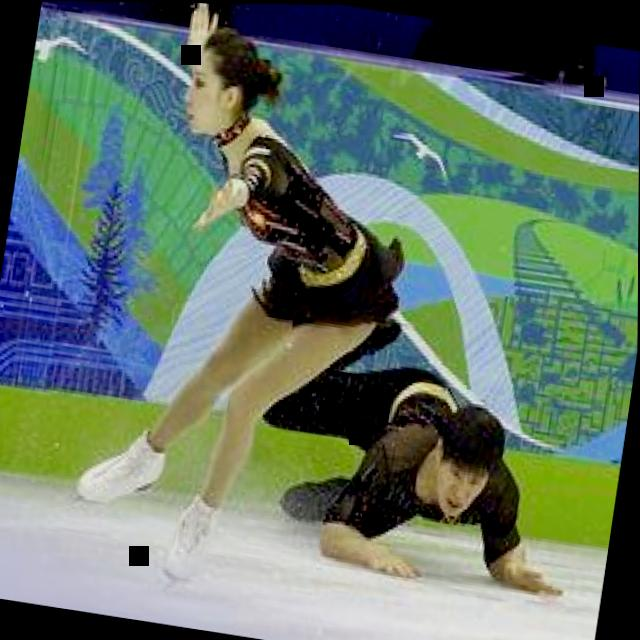Fall-Detected: (259, 334, 615, 607)
